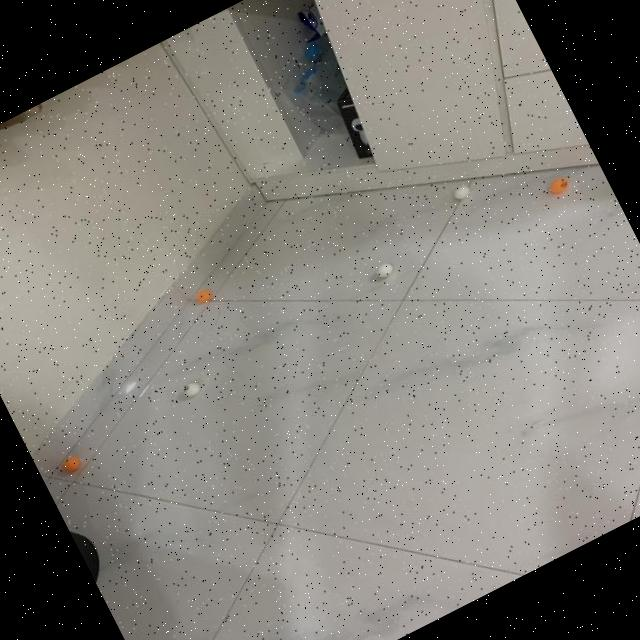ping-pong-ball: (544, 173, 572, 200), (56, 454, 84, 478), (449, 182, 472, 205), (178, 379, 202, 401), (190, 286, 213, 308), (372, 260, 394, 280)
